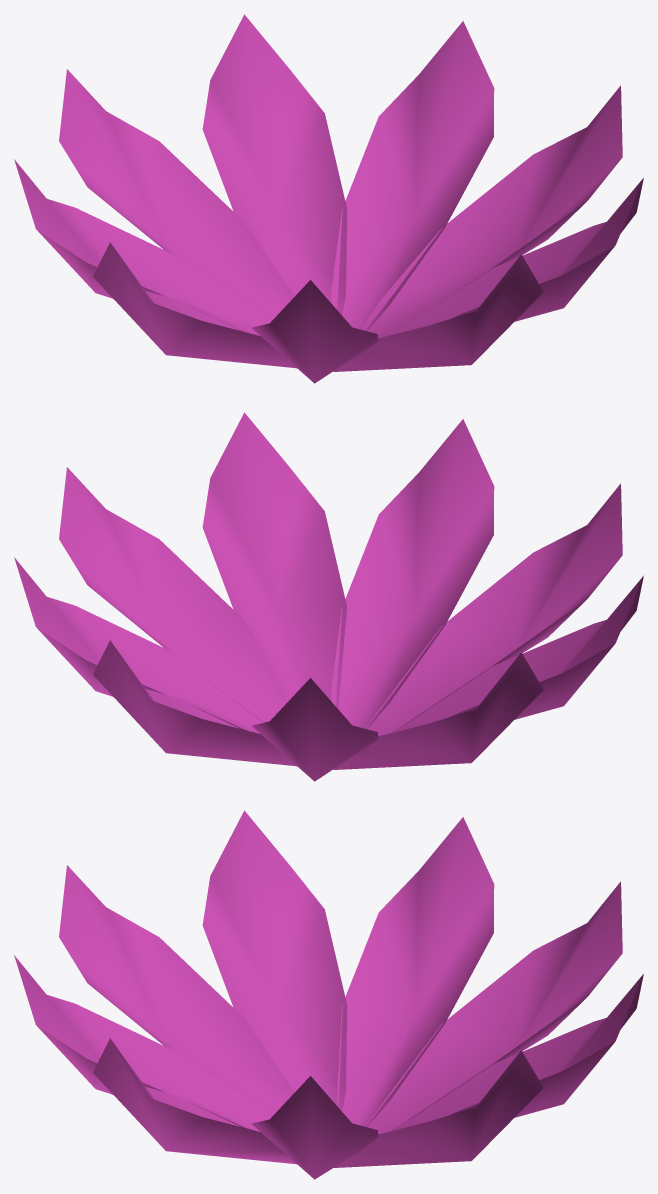
Rendered from Flower 13.fbx.
The picture shows the model from 3 angles, top to bottom: view 1: azimuth 30°, elevation 25°; view 2: azimuth 150°, elevation 25°; view 3: azimuth 270°, elevation 25°; orthographic projection.
Visible parts, largest first — view 1: Flower_13; view 2: Flower_13; view 3: Flower_13.
Part boxes in pixels (x1=…): Flower_13: x1=14, y1=14, x2=643, y2=383; Flower_13: x1=14, y1=412, x2=643, y2=781; Flower_13: x1=14, y1=810, x2=643, y2=1179.
Bounding box in the file's own units: 27.29 × 10.89 × 27.37.
1 material, 1 textured.
